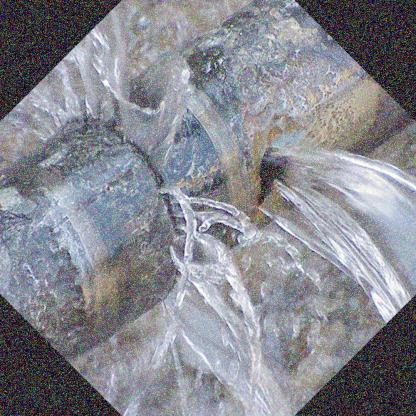burst: (62, 111, 202, 279), (247, 129, 315, 226)
